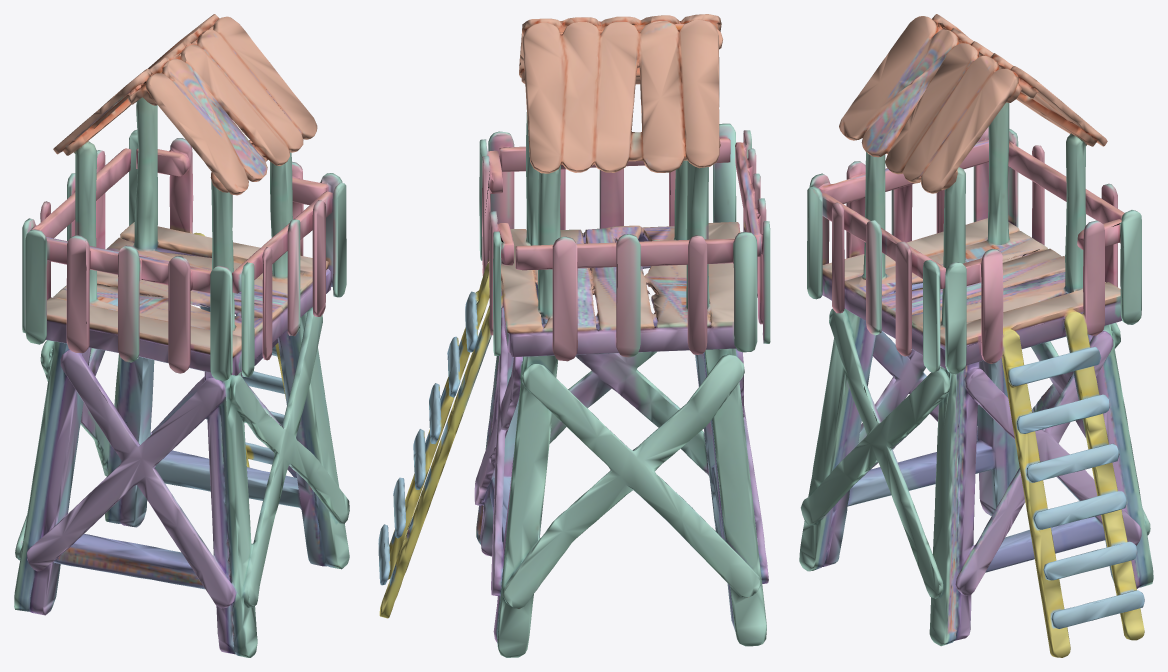
3 views of the same model, side by side, from view 1: azimuth 30°, elevation 25°; view 2: azimuth 150°, elevation 25°; view 3: azimuth 270°, elevation 25° (orthographic). The views are drawn at different scales.
Visible parts, largest first — view 1: repaired; view 2: repaired; view 3: repaired.
Part boxes in pixels (x1=…): repaired: x1=14, y1=14, x2=349, y2=657; repaired: x1=378, y1=14, x2=770, y2=657; repaired: x1=799, y1=14, x2=1153, y2=657.
Size of the model in its own units: 0.6514 by 0.9994 by 0.6008.
Materials: 1 (1 with a texture image).
